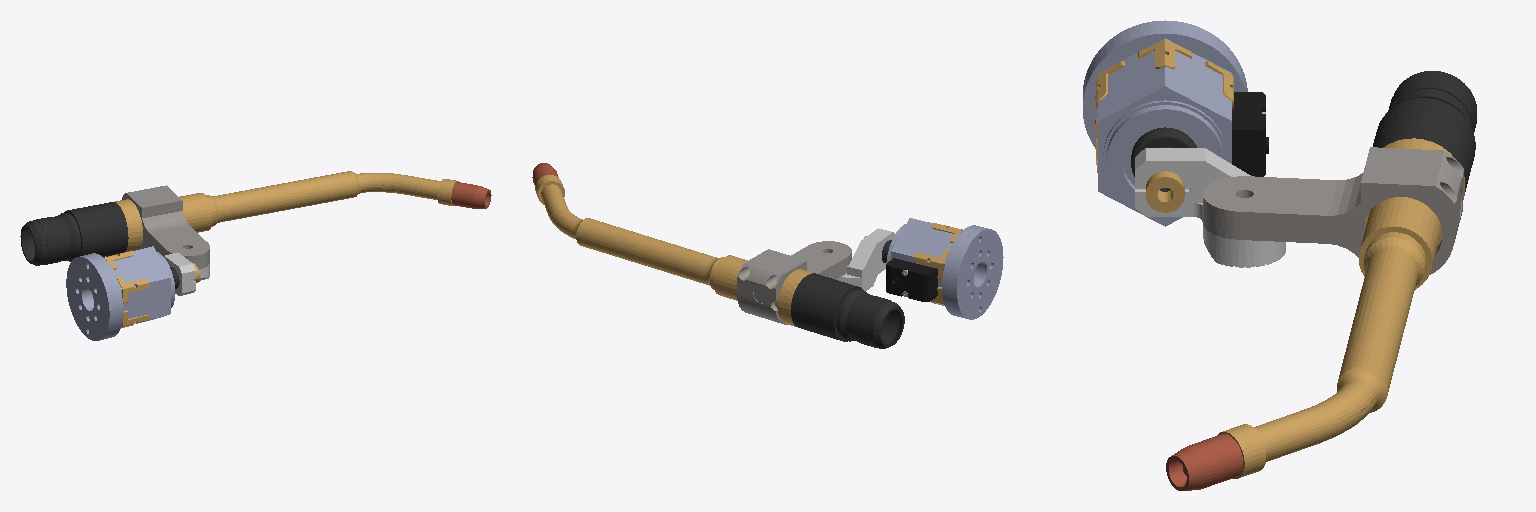
URDF robot description (robot):
<robot name="">
	<link name="base_link">
		<inertial>
			<origin rpy="0.00000 -0.00000 0.00000" xyz="-0.02780 0.00039 0.14035" />
			<mass value="1572.90000" />
			<inertia ixx="147.38224" ixy="0" ixz="0" iyy="202.17262" iyz="0" izz="319.78450" />
		</inertial>
		<visual>
			<origin rpy="-1.57080 0.00000 0.00000" xyz="0.00000 0.00000 0.00000" />
			<geometry>
				<mesh filename="rlbotics/envs/models/robots/kuka/kr210/meshes/kr210l150/visual/base_link.stl" scale="1.00000 1.00000 1.00000" />
			</geometry>
			<material name="0">
				<color rgba="0.05490 0.14510 0.20000 1.00000" />
			</material>
		</visual>
		<collision>
			<origin rpy="-1.57080 0.00000 0.00000" xyz="0.00000 0.00000 0.00000" />
			<geometry>
				<mesh filename="rlbotics/envs/models/robots/kuka/kr210/meshes/kr210l150/collision/base_link.stl" scale="1.00000 1.00000 1.00000" />
			</geometry>
		</collision>
	</link>
	<link name="link_1">
		<inertial>
			<origin rpy="0.00000 -0.00000 0.00000" xyz="-0.03681 -0.02470 0.56577" />
			<mass value="1385.50000" />
			<inertia ixx="150.64281" ixy="0" ixz="0" iyy="203.49709" iyz="0" izz="250.48282" />
		</inertial>
		<visual>
			<origin rpy="0.00000 -0.00000 0.00000" xyz="0.00000 0.00000 0.00000" />
			<geometry>
				<mesh filename="rlbotics/envs/models/robots/kuka/kr210/meshes/kr210l150/visual/link_1.stl" scale="1.00000 1.00000 1.00000" />
			</geometry>
			<material name="1">
				<color rgba="0.94902 0.36078 0.09804 1.00000" />
			</material>
		</visual>
		<collision>
			<origin rpy="0.00000 -0.00000 0.00000" xyz="0.00000 0.00000 0.00000" />
			<geometry>
				<mesh filename="rlbotics/envs/models/robots/kuka/kr210/meshes/kr210l150/collision/link_1.stl" scale="1.00000 1.00000 1.00000" />
			</geometry>
		</collision>
	</link>
	<link name="link_2">
		<inertial>
			<origin rpy="0.00000 -0.00000 0.00000" xyz="0.01692 -0.19196 0.44751" />
			<mass value="958.62000" />
			<inertia ixx="242.63225" ixy="0" ixz="0" iyy="241.46543" iyz="0" izz="38.45678" />
		</inertial>
		<visual>
			<origin rpy="-1.57080 0.00000 0.00000" xyz="0.00000 0.00000 0.00000" />
			<geometry>
				<mesh filename="rlbotics/envs/models/robots/kuka/kr210/meshes/kr210l150/visual/link_2.stl" scale="1.00000 1.00000 1.00000" />
			</geometry>
			<material name="2">
				<color rgba="0.94902 0.36078 0.09804 1.00000" />
			</material>
		</visual>
		<collision>
			<origin rpy="0.00000 -0.00000 0.00000" xyz="0.00000 0.00000 0.00000" />
			<geometry>
				<mesh filename="rlbotics/envs/models/robots/kuka/kr210/meshes/kr210l150/collision/link_2.stl" scale="1.00000 1.00000 1.00000" />
			</geometry>
		</collision>
	</link>
	<link name="link_3">
		<inertial>
			<origin rpy="0.00000 -0.00000 0.00000" xyz="0.18842 0.18344 -0.04280" />
			<mass value="710.03000" />
			<inertia ixx="31.03103" ixy="0" ixz="0" iyy="128.15244" iyz="0" izz="124.72848" />
		</inertial>
		<visual>
			<origin rpy="-1.57080 0.00000 0.00000" xyz="0.00000 0.00000 0.00000" />
			<geometry>
				<mesh filename="rlbotics/envs/models/robots/kuka/kr210/meshes/kr210l150/visual/link_3.stl" scale="1.00000 1.00000 1.00000" />
			</geometry>
			<material name="3">
				<color rgba="0.94902 0.36078 0.09804 1.00000" />
			</material>
		</visual>
		<collision>
			<origin rpy="0.00000 -0.00000 0.00000" xyz="0.00000 0.00000 0.00000" />
			<geometry>
				<mesh filename="rlbotics/envs/models/robots/kuka/kr210/meshes/kr210l150/collision/link_3.stl" scale="1.00000 1.00000 1.00000" />
			</geometry>
		</collision>
	</link>
	<link name="link_4">
		<inertial>
			<origin rpy="0.00000 -0.00000 0.00000" xyz="0.27146 -0.00733 0.00005" />
			<mass value="173.73000" />
			<inertia ixx="2.59544" ixy="0" ixz="0" iyy="7.06362" iyz="0" izz="7.87822" />
		</inertial>
		<visual>
			<origin rpy="-1.57080 0.00000 0.00000" xyz="0.00000 0.00000 0.00000" />
			<geometry>
				<mesh filename="rlbotics/envs/models/robots/kuka/kr210/meshes/kr210l150/visual/link_4.stl" scale="1.00000 1.00000 1.00000" />
			</geometry>
			<material name="4">
				<color rgba="0.94902 0.36078 0.09804 1.00000" />
			</material>
		</visual>
		<collision>
			<origin rpy="0.00000 -0.00000 0.00000" xyz="0.00000 0.00000 0.00000" />
			<geometry>
				<mesh filename="rlbotics/envs/models/robots/kuka/kr210/meshes/kr210l150/collision/link_4.stl" scale="1.00000 1.00000 1.00000" />
			</geometry>
		</collision>
	</link>
	<link name="link_5">
		<inertial>
			<origin rpy="0.00000 -0.00000 0.00000" xyz="0.04379 0.02598 0.00000" />
			<mass value="72.17000" />
			<inertia ixx="0.72730" ixy="0" ixz="0" iyy="0.97404" iyz="0" izz="0.97344" />
		</inertial>
		<visual>
			<origin rpy="-1.57080 0.00000 0.00000" xyz="0.00000 0.00000 0.00000" />
			<geometry>
				<mesh filename="rlbotics/envs/models/robots/kuka/kr210/meshes/kr210l150/visual/link_5.stl" scale="1.00000 1.00000 1.00000" />
			</geometry>
			<material name="5">
				<color rgba="0.94902 0.36078 0.09804 1.00000" />
			</material>
		</visual>
		<collision>
			<origin rpy="0.00000 -0.00000 0.00000" xyz="0.00000 0.00000 0.00000" />
			<geometry>
				<mesh filename="rlbotics/envs/models/robots/kuka/kr210/meshes/kr210l150/collision/link_5.stl" scale="1.00000 1.00000 1.00000" />
			</geometry>
		</collision>
	</link>
	<link name="link_6">
		<inertial>
			<origin rpy="0.00000 -0.00000 0.00000" xyz="-0.01796 -0.00002 0.00015" />
			<mass value="6.31540" />
			<inertia ixx="0.04370" ixy="0" ixz="0" iyy="0.02283" iyz="0" izz="0.02286" />
		</inertial>
		<visual>
			<origin rpy="0.00000 -0.00000 0.00000" xyz="0.00000 0.00000 0.00000" />
			<geometry>
				<mesh filename="rlbotics/envs/models/robots/kuka/kr210/meshes/kr210l150/visual/link_6.stl" scale="1.00000 1.00000 1.00000" />
			</geometry>
			<material name="6">
				<color rgba="0.75294 0.75294 0.75294 1.00000" />
			</material>
		</visual>
		<collision>
			<origin rpy="0.00000 -0.00000 0.00000" xyz="0.00000 0.00000 0.00000" />
			<geometry>
				<mesh filename="rlbotics/envs/models/robots/kuka/kr210/meshes/kr210l150/collision/link_6.stl" scale="1.00000 1.00000 1.00000" />
			</geometry>
		</collision>
	</link>
	<link name="tool0">
		<inertial>
			<origin rpy="0.00000 -0.00000 0.00000" xyz="0.00000 0.00000 0.00000" />
			<mass value="1.00000" />
			<inertia ixx="0.00000" ixy="0" ixz="0" iyy="0.00000" iyz="0" izz="0.00000" />
		</inertial>
	</link>
	<link name="Link1">
		<inertial>
			<origin rpy="0.00000 -0.00000 0.00000" xyz="0.00000 0.00000 0.00000" />
			<mass value="1.00000" />
			<inertia ixx="0.00000" ixy="0" ixz="0" iyy="0.00000" iyz="0" izz="0.00000" />
		</inertial>
	</link>
	<link name="root">
		<inertial>
			<origin rpy="0.00000 -0.00000 0.00000" xyz="-0.01448 -0.00427 0.02204" />
			<mass value="10.00000" />
			<inertia ixx="0.62536" ixy="0" ixz="0" iyy="0.53801" iyz="0" izz="0.12460" />
		</inertial>
		<visual>
			<origin rpy="0.00000 -0.00000 0.00000" xyz="-0.02792 -0.00816 0.04271" />
			<geometry>
				<mesh filename="rlbotics/envs/models/end_effectors/welding/welding_torch/meshes/stl/Body1.stl" scale="0.01913 0.01913 0.01913" />
			</geometry>
			<material name="7">
				<color rgba="0.80000 0.80000 0.80000 1.00000" />
			</material>
		</visual>
		<visual>
			<origin rpy="0.00000 -0.00000 0.00000" xyz="-0.02792 -0.00816 0.04271" />
			<geometry>
				<mesh filename="rlbotics/envs/models/end_effectors/welding/welding_torch/meshes/stl/Body10.stl" scale="0.01913 0.01913 0.01913" />
			</geometry>
			<material name="8">
				<color rgba="0.80000 0.64627 0.39843 1.00000" />
			</material>
		</visual>
		<visual>
			<origin rpy="0.00000 -0.00000 0.00000" xyz="-0.02792 -0.00816 0.04271" />
			<geometry>
				<mesh filename="rlbotics/envs/models/end_effectors/welding/welding_torch/meshes/stl/Body11.stl" scale="0.01913 0.01913 0.01913" />
			</geometry>
			<material name="9">
				<color rgba="0.80000 0.64627 0.39843 1.00000" />
			</material>
		</visual>
		<visual>
			<origin rpy="0.00000 -0.00000 0.00000" xyz="-0.02792 -0.00816 0.04271" />
			<geometry>
				<mesh filename="rlbotics/envs/models/end_effectors/welding/welding_torch/meshes/stl/Body12.stl" scale="0.01913 0.01913 0.01913" />
			</geometry>
			<material name="10">
				<color rgba="0.63373 0.65569 0.74667 1.00000" />
			</material>
		</visual>
		<visual>
			<origin rpy="0.00000 -0.00000 0.00000" xyz="-0.02792 -0.00816 0.04271" />
			<geometry>
				<mesh filename="rlbotics/envs/models/end_effectors/welding/welding_torch/meshes/stl/Body13.stl" scale="0.01913 0.01913 0.01913" />
			</geometry>
			<material name="11">
				<color rgba="0.71843 0.73412 0.74353 1.00000" />
			</material>
		</visual>
		<visual>
			<origin rpy="0.00000 -0.00000 0.00000" xyz="-0.02792 -0.00816 0.04271" />
			<geometry>
				<mesh filename="rlbotics/envs/models/end_effectors/welding/welding_torch/meshes/stl/Body14.stl" scale="0.01913 0.01913 0.01913" />
			</geometry>
			<material name="12">
				<color rgba="0.63373 0.65569 0.74667 1.00000" />
			</material>
		</visual>
		<visual>
			<origin rpy="0.00000 -0.00000 0.00000" xyz="-0.02792 -0.00816 0.04271" />
			<geometry>
				<mesh filename="rlbotics/envs/models/end_effectors/welding/welding_torch/meshes/stl/Body15.stl" scale="0.01913 0.01913 0.01913" />
			</geometry>
			<material name="13">
				<color rgba="0.80000 0.64627 0.39843 1.00000" />
			</material>
		</visual>
		<visual>
			<origin rpy="0.00000 -0.00000 0.00000" xyz="-0.02792 -0.00816 0.04271" />
			<geometry>
				<mesh filename="rlbotics/envs/models/end_effectors/welding/welding_torch/meshes/stl/Body16.stl" scale="0.01913 0.01913 0.01913" />
			</geometry>
			<material name="14">
				<color rgba="0.63373 0.65569 0.74667 1.00000" />
			</material>
		</visual>
		<visual>
			<origin rpy="0.00000 -0.00000 0.00000" xyz="-0.02792 -0.00816 0.04271" />
			<geometry>
				<mesh filename="rlbotics/envs/models/end_effectors/welding/welding_torch/meshes/stl/Body17.stl" scale="0.01913 0.01913 0.01913" />
			</geometry>
			<material name="15">
				<color rgba="0.63373 0.65569 0.74667 1.00000" />
			</material>
		</visual>
		<visual>
			<origin rpy="0.00000 -0.00000 0.00000" xyz="-0.02792 -0.00816 0.04271" />
			<geometry>
				<mesh filename="rlbotics/envs/models/end_effectors/welding/welding_torch/meshes/stl/Body18.stl" scale="0.01913 0.01913 0.01913" />
			</geometry>
			<material name="16">
				<color rgba="0.63373 0.65569 0.74667 1.00000" />
			</material>
		</visual>
		<visual>
			<origin rpy="0.00000 -0.00000 0.00000" xyz="-0.02792 -0.00816 0.04271" />
			<geometry>
				<mesh filename="rlbotics/envs/models/end_effectors/welding/welding_torch/meshes/stl/Body19.stl" scale="0.01913 0.01913 0.01913" />
			</geometry>
			<material name="17">
				<color rgba="0.63373 0.65569 0.74667 1.00000" />
			</material>
		</visual>
		<visual>
			<origin rpy="0.00000 -0.00000 0.00000" xyz="-0.02792 -0.00816 0.04271" />
			<geometry>
				<mesh filename="rlbotics/envs/models/end_effectors/welding/welding_torch/meshes/stl/Body2.stl" scale="0.01913 0.01913 0.01913" />
			</geometry>
			<material name="18">
				<color rgba="0.54902 0.48627 0.42353 1.00000" />
			</material>
		</visual>
		<visual>
			<origin rpy="0.00000 -0.00000 0.00000" xyz="-0.02792 -0.00816 0.04271" />
			<geometry>
				<mesh filename="rlbotics/envs/models/end_effectors/welding/welding_torch/meshes/stl/Body20.stl" scale="0.01913 0.01913 0.01913" />
			</geometry>
			<material name="19">
				<color rgba="0.63373 0.65569 0.74667 1.00000" />
			</material>
		</visual>
		<visual>
			<origin rpy="0.00000 -0.00000 0.00000" xyz="-0.02792 -0.00816 0.04271" />
			<geometry>
				<mesh filename="rlbotics/envs/models/end_effectors/welding/welding_torch/meshes/stl/Body21.stl" scale="0.01913 0.01913 0.01913" />
			</geometry>
			<material name="20">
				<color rgba="0.80000 0.64627 0.39843 1.00000" />
			</material>
		</visual>
		<visual>
			<origin rpy="0.00000 -0.00000 0.00000" xyz="-0.02792 -0.00816 0.04271" />
			<geometry>
				<mesh filename="rlbotics/envs/models/end_effectors/welding/welding_torch/meshes/stl/Body23.stl" scale="0.01913 0.01913 0.01913" />
			</geometry>
			<material name="21">
				<color rgba="0.23843 0.23843 0.23843 1.00000" />
			</material>
		</visual>
		<visual>
			<origin rpy="0.00000 -0.00000 0.00000" xyz="-0.02792 -0.00816 0.04271" />
			<geometry>
				<mesh filename="rlbotics/envs/models/end_effectors/welding/welding_torch/meshes/stl/Body24.stl" scale="0.01913 0.01913 0.01913" />
			</geometry>
			<material name="22">
				<color rgba="0.80000 0.64627 0.39843 1.00000" />
			</material>
		</visual>
		<visual>
			<origin rpy="0.00000 -0.00000 0.00000" xyz="-0.02792 -0.00816 0.04271" />
			<geometry>
				<mesh filename="rlbotics/envs/models/end_effectors/welding/welding_torch/meshes/stl/Body25.stl" scale="0.01913 0.01913 0.01913" />
			</geometry>
			<material name="23">
				<color rgba="0.23843 0.23843 0.23843 1.00000" />
			</material>
		</visual>
		<visual>
			<origin rpy="0.00000 -0.00000 0.00000" xyz="-0.02792 -0.00816 0.04271" />
			<geometry>
				<mesh filename="rlbotics/envs/models/end_effectors/welding/welding_torch/meshes/stl/Body26.stl" scale="0.01913 0.01913 0.01913" />
			</geometry>
			<material name="24">
				<color rgba="0.62118 0.55843 0.51137 1.00000" />
			</material>
		</visual>
		<visual>
			<origin rpy="0.00000 -0.00000 0.00000" xyz="-0.02792 -0.00816 0.04271" />
			<geometry>
				<mesh filename="rlbotics/envs/models/end_effectors/welding/welding_torch/meshes/stl/Body27.stl" scale="0.01913 0.01913 0.01913" />
			</geometry>
			<material name="25">
				<color rgba="0.67137 0.37333 0.29490 1.00000" />
			</material>
		</visual>
		<visual>
			<origin rpy="0.00000 -0.00000 0.00000" xyz="-0.02792 -0.00816 0.04271" />
			<geometry>
				<mesh filename="rlbotics/envs/models/end_effectors/welding/welding_torch/meshes/stl/Body3.stl" scale="0.01913 0.01913 0.01913" />
			</geometry>
			<material name="26">
				<color rgba="0.62118 0.60549 0.58980 1.00000" />
			</material>
		</visual>
		<visual>
			<origin rpy="0.00000 -0.00000 0.00000" xyz="-0.02792 -0.00816 0.04271" />
			<geometry>
				<mesh filename="rlbotics/envs/models/end_effectors/welding/welding_torch/meshes/stl/Body4.stl" scale="0.01913 0.01913 0.01913" />
			</geometry>
			<material name="27">
				<color rgba="0.80000 0.62431 0.52706 1.00000" />
			</material>
		</visual>
		<visual>
			<origin rpy="0.00000 -0.00000 0.00000" xyz="-0.02792 -0.00816 0.04271" />
			<geometry>
				<mesh filename="rlbotics/envs/models/end_effectors/welding/welding_torch/meshes/stl/Body5.stl" scale="0.01913 0.01913 0.01913" />
			</geometry>
			<material name="28">
				<color rgba="0.63373 0.65569 0.74667 1.00000" />
			</material>
		</visual>
		<visual>
			<origin rpy="0.00000 -0.00000 0.00000" xyz="-0.02792 -0.00816 0.04271" />
			<geometry>
				<mesh filename="rlbotics/envs/models/end_effectors/welding/welding_torch/meshes/stl/Body6.stl" scale="0.01913 0.01913 0.01913" />
			</geometry>
			<material name="29">
				<color rgba="0.16000 0.16000 0.16000 1.00000" />
			</material>
		</visual>
		<visual>
			<origin rpy="0.00000 -0.00000 0.00000" xyz="-0.02792 -0.00816 0.04271" />
			<geometry>
				<mesh filename="rlbotics/envs/models/end_effectors/welding/welding_torch/meshes/stl/Body7.stl" scale="0.01913 0.01913 0.01913" />
			</geometry>
			<material name="30">
				<color rgba="0.80000 0.64627 0.39843 1.00000" />
			</material>
		</visual>
		<visual>
			<origin rpy="0.00000 -0.00000 0.00000" xyz="-0.02792 -0.00816 0.04271" />
			<geometry>
				<mesh filename="rlbotics/envs/models/end_effectors/welding/welding_torch/meshes/stl/Body8.stl" scale="0.01913 0.01913 0.01913" />
			</geometry>
			<material name="31">
				<color rgba="0.80000 0.64627 0.39843 1.00000" />
			</material>
		</visual>
		<visual>
			<origin rpy="0.00000 -0.00000 0.00000" xyz="-0.02792 -0.00816 0.04271" />
			<geometry>
				<mesh filename="rlbotics/envs/models/end_effectors/welding/welding_torch/meshes/stl/Body9.stl" scale="0.01913 0.01913 0.01913" />
			</geometry>
			<material name="32">
				<color rgba="0.80000 0.64627 0.39843 1.00000" />
			</material>
		</visual>
		<collision>
			<origin rpy="0.00000 -0.00000 0.00000" xyz="-0.02694 -0.00899 0.04304" />
			<geometry>
				<mesh filename="rlbotics/envs/models/end_effectors/welding/welding_torch/meshes/stl/Body1.001.stl" scale="1.91308 1.91308 1.91308" />
			</geometry>
		</collision>
		<collision>
			<origin rpy="0.00000 -0.00000 0.00000" xyz="-0.03031 -0.00834 0.04250" />
			<geometry>
				<mesh filename="rlbotics/envs/models/end_effectors/welding/welding_torch/meshes/stl/Body23.001.stl" scale="1.91308 1.91308 1.91308" />
			</geometry>
		</collision>
		<collision>
			<origin rpy="0.00000 -0.00000 0.00000" xyz="-0.02830 -0.00808 0.04410" />
			<geometry>
				<mesh filename="rlbotics/envs/models/end_effectors/welding/welding_torch/meshes/stl/Body24.001.stl" scale="1.91308 1.91308 1.91308" />
			</geometry>
		</collision>
		<collision>
			<origin rpy="0.00000 -0.00000 0.00000" xyz="-0.02798 -0.00886 0.05092" />
			<geometry>
				<mesh filename="rlbotics/envs/models/end_effectors/welding/welding_torch/meshes/stl/Body25.001.stl" scale="1.91308 1.91308 1.91308" />
			</geometry>
		</collision>
		<collision>
			<origin rpy="0.00000 -0.00000 0.00000" xyz="-0.02695 -0.00714 0.04028" />
			<geometry>
				<mesh filename="rlbotics/envs/models/end_effectors/welding/welding_torch/meshes/stl/Body3.001.stl" scale="1.91308 1.91308 1.91308" />
			</geometry>
		</collision>
		<collision>
			<origin rpy="0.00000 -0.00000 0.00000" xyz="-0.02659 -0.00839 0.04212" />
			<geometry>
				<mesh filename="rlbotics/envs/models/end_effectors/welding/welding_torch/meshes/stl/Body5.001.stl" scale="1.91308 1.91308 1.91308" />
			</geometry>
		</collision>
		<collision>
			<origin rpy="0.00000 -0.00000 0.00000" xyz="-0.02771 -0.00796 0.04287" />
			<geometry>
				<mesh filename="rlbotics/envs/models/end_effectors/welding/welding_torch/meshes/stl/Body6.001.stl" scale="1.91308 1.91308 1.91308" />
			</geometry>
		</collision>
	</link>
	<link name="ee_joint_arm">
		<inertial>
			<origin rpy="0.00000 -0.00000 0.00000" xyz="-0.01458 -0.00585 0.05244" />
			<mass value="2.00000" />
			<inertia ixx="0.00442" ixy="0" ixz="0" iyy="0.00442" iyz="0" izz="0.00843" />
		</inertial>
		<visual>
			<origin rpy="0.00000 -0.00000 0.00000" xyz="-0.02797 -0.01121 0.09982" />
			<geometry>
				<mesh filename="rlbotics/envs/models/end_effectors/welding/welding_torch/meshes/stl/Body22.stl" scale="0.01913 0.01913 0.01913" />
			</geometry>
			<material name="33">
				<color rgba="0.63373 0.65569 0.74667 1.00000" />
			</material>
		</visual>
		<collision>
			<origin rpy="0.00000 -0.00000 0.00000" xyz="-0.02788 -0.01119 0.10032" />
			<geometry>
				<mesh filename="rlbotics/envs/models/end_effectors/welding/welding_torch/meshes/stl/Body22.001.stl" scale="1.91308 1.91308 1.91308" />
			</geometry>
		</collision>
	</link>
	<link name="nozzle_tip">
		<inertial>
			<origin rpy="0.00000 -0.00000 0.00000" xyz="-0.01570 -0.30904 -0.22158" />
			<mass value="2.00000" />
			<inertia ixx="0.00381" ixy="0" ixz="0" iyy="0.00232" iyz="0" izz="0.00228" />
		</inertial>
		<visual>
			<origin rpy="-0.92502 0.00000 0.00000" xyz="-0.02985 -0.59008 -0.41691" />
			<geometry>
				<mesh filename="rlbotics/envs/models/end_effectors/welding/welding_torch/meshes/stl/Body28.stl" scale="0.01913 0.01913 0.01913" />
			</geometry>
			<material name="34">
				<color rgba="0.67137 0.37333 0.29490 1.00000" />
			</material>
		</visual>
		<collision>
			<origin rpy="-0.92502 0.00000 0.00000" xyz="-0.03004 -0.59122 -0.42390" />
			<geometry>
				<mesh filename="rlbotics/envs/models/end_effectors/welding/welding_torch/meshes/stl/Body28.001.stl" scale="1.91308 1.91308 1.91308" />
			</geometry>
		</collision>
	</link>
	<joint name="joint_a1" type="revolute">
		<parent link="base_link" />
		<child link="link_1" />
		<dynamics damping="0.0" friction="0.0" />
		<origin rpy="0.00000 -0.00000 0.00000" xyz="-0.00262 0.00098 0.33099" />
		<axis xyz="0.00000 0.00000 1.00000" />
	<limit effort="0.0" lower="-3.2288591161895095" upper="3.2288591161895095" velocity="2.1467549799530254" /></joint>
	<joint name="joint_a2" type="revolute">
		<parent link="link_1" />
		<child link="link_2" />
		<dynamics damping="0.0" friction="0.0" />
		<origin rpy="0.00000 -0.00000 0.00000" xyz="0.35277 -0.03748 0.41920" />
		<axis xyz="0.00000 1.00000 0.00000" />
	<limit effort="0.0" lower="-0.7853981633974483" upper="1.4835298641951802" velocity="2.007128639793479" /></joint>
	<joint name="joint_a3" type="revolute">
		<parent link="link_2" />
		<child link="link_3" />
		<dynamics damping="0.0" friction="0.0" />
		<origin rpy="0.00000 -0.00000 0.00000" xyz="-0.00010 -0.14750 1.24990" />
		<axis xyz="0.00000 1.00000 0.00000" />
	<limit effort="0.0" lower="-3.6651914291880923" upper="1.1344640137963142" velocity="1.9547687622336491" /></joint>
	<joint name="joint_a4" type="revolute">
		<parent link="link_3" />
		<child link="link_4" />
		<dynamics damping="0.0" friction="0.0" />
		<origin rpy="0.00000 -0.00000 0.00000" xyz="0.95795 0.18400 -0.05506" />
		<axis xyz="1.00000 0.00000 0.00000" />
	<limit effort="0.0" lower="-6.1086523819801535" upper="6.1086523819801535" velocity="3.12413936106985" /></joint>
	<joint name="joint_a5" type="revolute">
		<parent link="link_4" />
		<child link="link_5" />
		<dynamics damping="0.0" friction="0.0" />
		<origin rpy="0.00000 -0.00000 0.00000" xyz="0.54200 0.00000 0.00000" />
		<axis xyz="0.00000 1.00000 0.00000" />
	<limit effort="0.0" lower="-2.181661564992912" upper="2.181661564992912" velocity="3.001966313430247" /></joint>
	<joint name="joint_a6" type="revolute">
		<parent link="link_5" />
		<child link="link_6" />
		<dynamics damping="0.0" friction="0.0" />
		<origin rpy="0.00000 -0.00000 0.00000" xyz="0.19250 0.00000 0.00000" />
		<axis xyz="1.00000 0.00000 0.00000" />
	<limit effort="0.0" lower="-6.1086523819801535" upper="6.1086523819801535" velocity="3.822271061867582" /></joint>
	<joint name="link_6-tool0" type="fixed">
		<parent link="link_6" />
		<child link="tool0" />
		<dynamics damping="1.0" friction="0.0001" />
		<origin rpy="0.00000 -0.00000 0.00000" xyz="0.03750 0.00000 -0.00024" />
		<axis xyz="0.00000 0.00000 0.00000" />
	</joint>
	<joint name="Link1-link_1" type="fixed">
		<parent link="link_1" />
		<child link="Link1" />
		<dynamics damping="1.0" friction="0.0001" />
		<origin rpy="0.00000 -0.00000 0.00000" xyz="0.00000 0.00000 0.00000" />
		<axis xyz="0.00000 0.00000 0.00000" />
	</joint>
	<joint name="joint_dummy1" type="fixed">
		<parent link="link_6" />
		<child link="root" />
		<dynamics damping="1.0" friction="0.0001" />
		<origin rpy="0.00000 1.57080 0.00000" xyz="0.00000 0.00000 0.00000" />
		<axis xyz="0.00000 0.00000 1.00000" />
	</joint>
	<joint name="ee_joint_arm" type="fixed">
		<parent link="root" />
		<child link="ee_joint_arm" />
		<dynamics damping="1.0" friction="0.0001" />
		<origin rpy="0.00000 -0.00000 0.00000" xyz="0.00005 0.00304 -0.05711" />
		<axis xyz="0.00000 0.00000 0.00000" />
	</joint>
	<joint name="nozzle_tip" type="fixed">
		<parent link="root" />
		<child link="nozzle_tip" />
		<dynamics damping="1.0" friction="0.0001" />
		<origin rpy="0.92502 -0.00000 0.00000" xyz="0.00193 0.01399 0.76487" />
		<axis xyz="0.00000 0.00000 0.00000" />
	</joint>
</robot>

--- Render facts (derived) ---
The picture shows the robot from 3 angles, left to right: view 1: azimuth 30°, elevation 25°; view 2: azimuth 150°, elevation 25°; view 3: azimuth 270°, elevation 25°; orthographic projection.
Robot: robot — 12 links, 11 joints (6 revolute, 5 fixed); root link base_link; default pose: every joint at zero.
Visible links, largest first — view 1: root, ee_joint_arm, nozzle_tip; view 2: root, ee_joint_arm; view 3: root, ee_joint_arm, nozzle_tip.
Link boxes in pixels (left/top/right/bottom): root: left=20, top=171, right=458, bottom=327; ee_joint_arm: left=66, top=253, right=123, bottom=340; nozzle_tip: left=451, top=182, right=491, bottom=208; root: left=535, top=175, right=962, bottom=348; ee_joint_arm: left=942, top=225, right=1003, bottom=319; root: left=1095, top=38, right=1476, bottom=478; ee_joint_arm: left=1083, top=20, right=1247, bottom=148; nozzle_tip: left=1166, top=434, right=1242, bottom=490.
Size in the robot's own frame: 0.8374 by 0.3655 by 0.153 metres.
28 mesh visuals loaded from 35 distinct referenced files (28 binary STL); not drawn: 7 (reference not matched to a file when rendering).